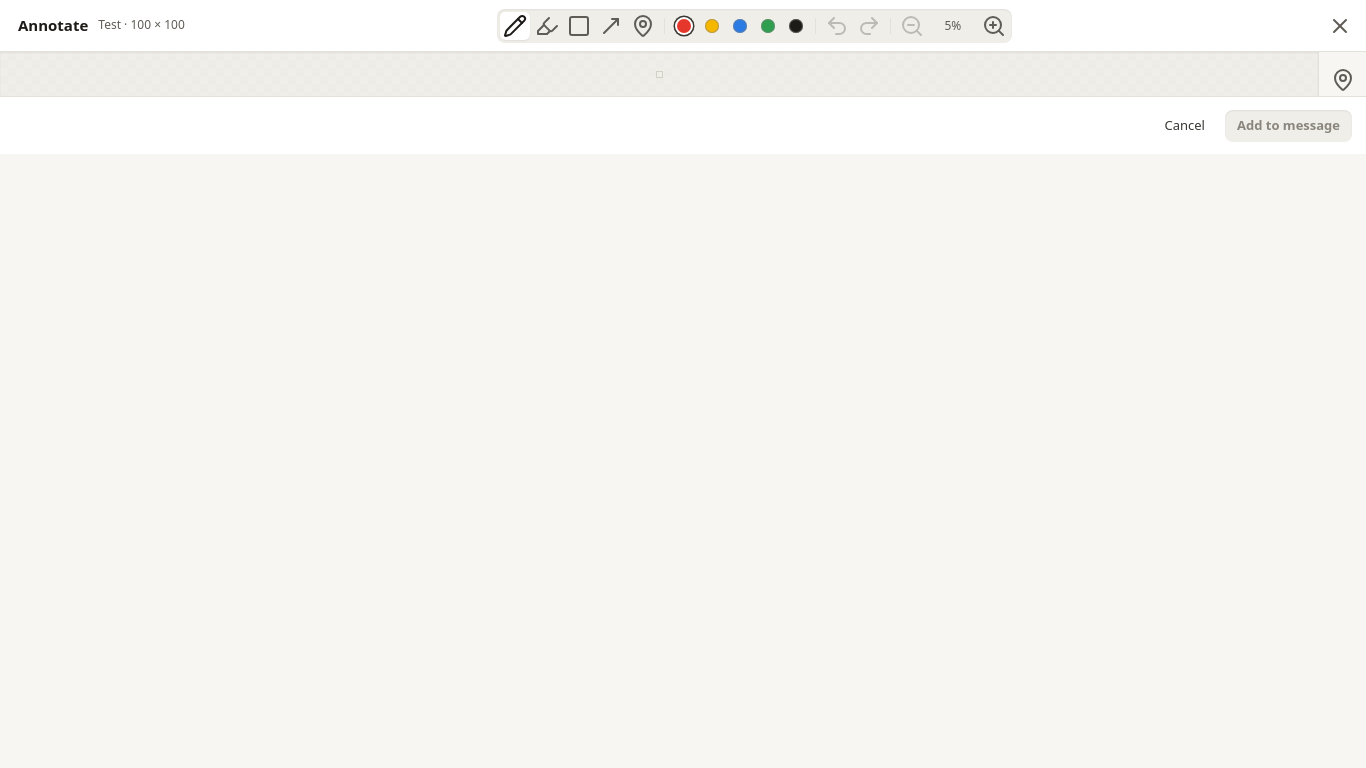
Test: opens with the pins column closed, even after it was shown
What coordinates should you click on to do the following:
click the button titled "Show pins"
I would click on:
 (1342, 80)
Its box is top-left (1326, 64), bottom-right (1358, 96).
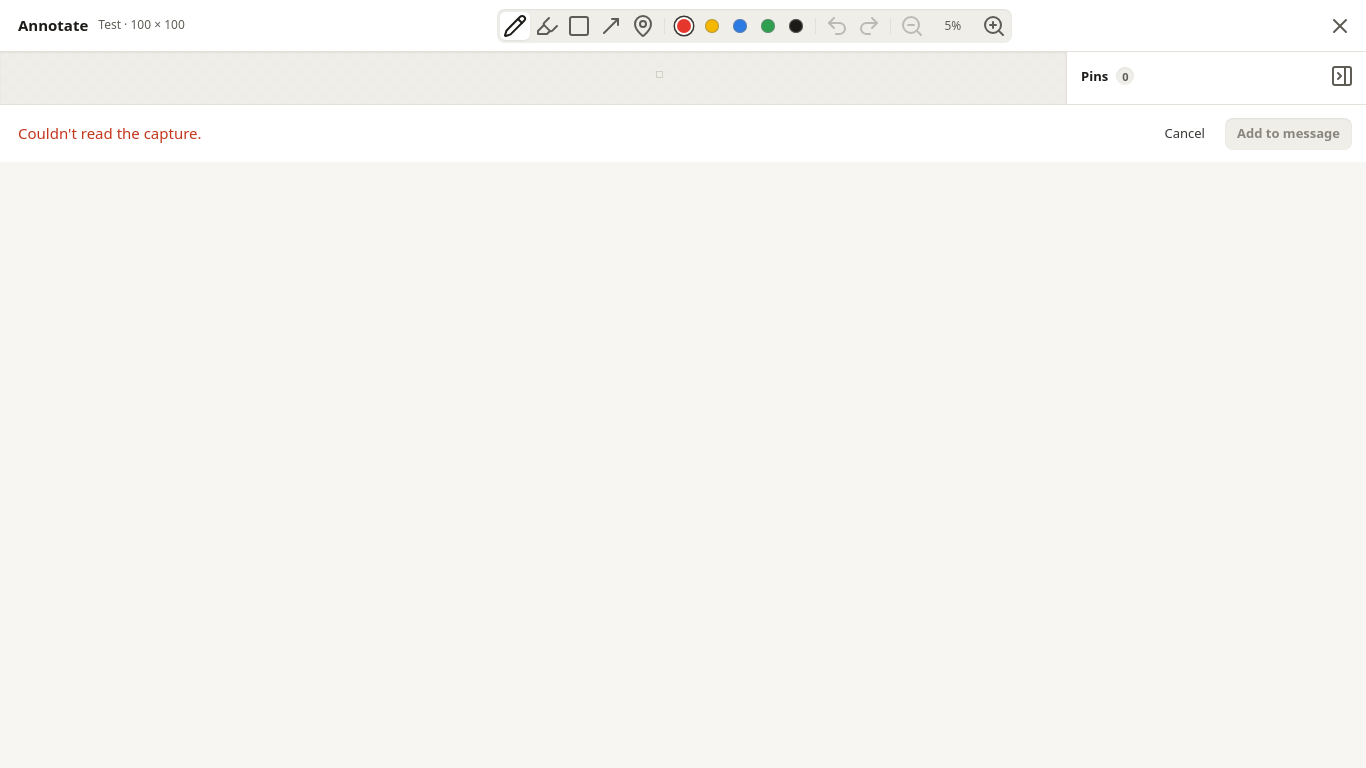
Now the element with class "annotate-pins" is shown, box top-left (1066, 52), bottom-right (1365, 104)
